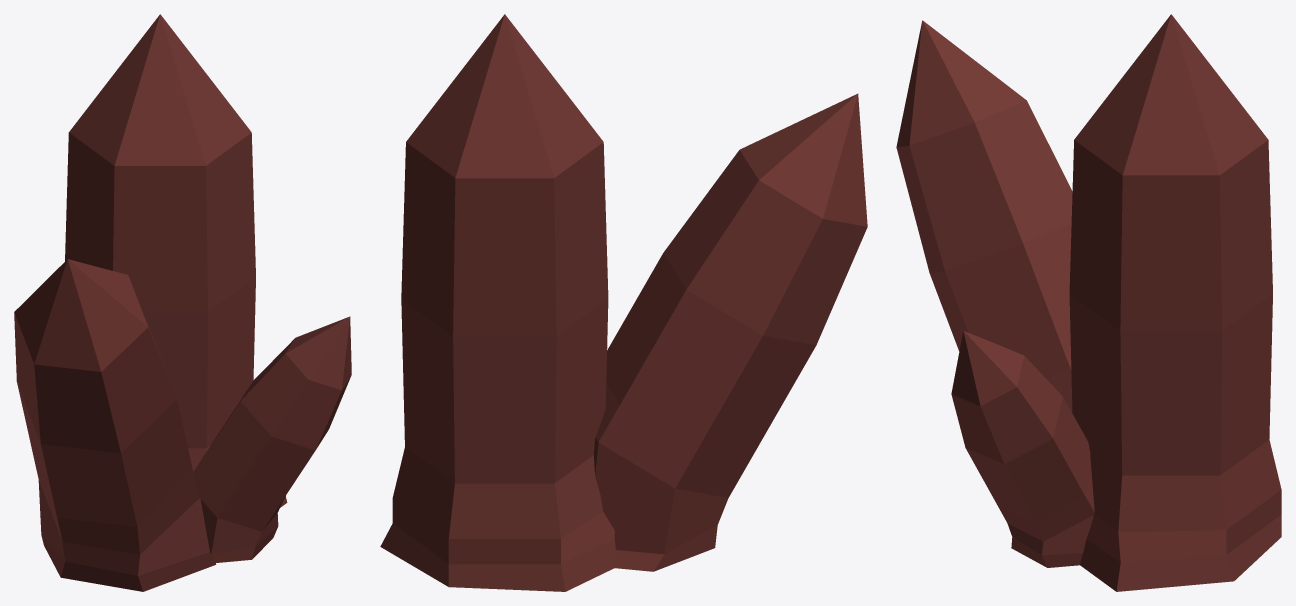
File: Rock_15_Red.fbx
3 renders of one model, left to right at view 1: azimuth 30°, elevation 25°; view 2: azimuth 150°, elevation 25°; view 3: azimuth 270°, elevation 25°, orthographic. The views are drawn at different scales.
Parts seen in each view (by area): view 1: Rock_15_Red_Part_1, Rock_15_Red_Part_2, Rock_15_Red_Part_3; view 2: Rock_15_Red_Part_1, Rock_15_Red_Part_2; view 3: Rock_15_Red_Part_1, Rock_15_Red_Part_2, Rock_15_Red_Part_3.
Boxes of the visible parts, box(x1,y1,x2,y2) form: Rock_15_Red_Part_1: box(65, 14, 287, 507); Rock_15_Red_Part_2: box(14, 259, 216, 591); Rock_15_Red_Part_3: box(193, 316, 351, 562); Rock_15_Red_Part_1: box(380, 14, 615, 591); Rock_15_Red_Part_2: box(594, 93, 867, 571); Rock_15_Red_Part_1: box(1069, 14, 1281, 591); Rock_15_Red_Part_2: box(896, 20, 1072, 412); Rock_15_Red_Part_3: box(951, 331, 1094, 567).
Size of the model in its own units: 185 by 263 by 175.
